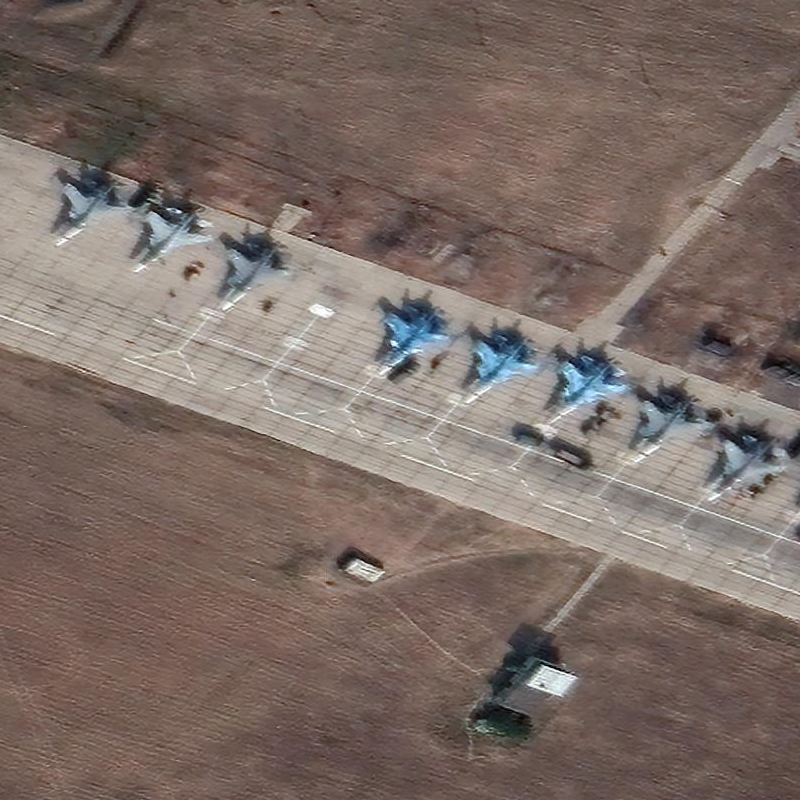A19: (544, 351, 631, 426), (629, 391, 715, 466), (375, 301, 456, 380), (461, 331, 545, 407), (705, 432, 792, 505), (52, 176, 132, 249), (219, 240, 293, 314), (131, 209, 213, 275)
